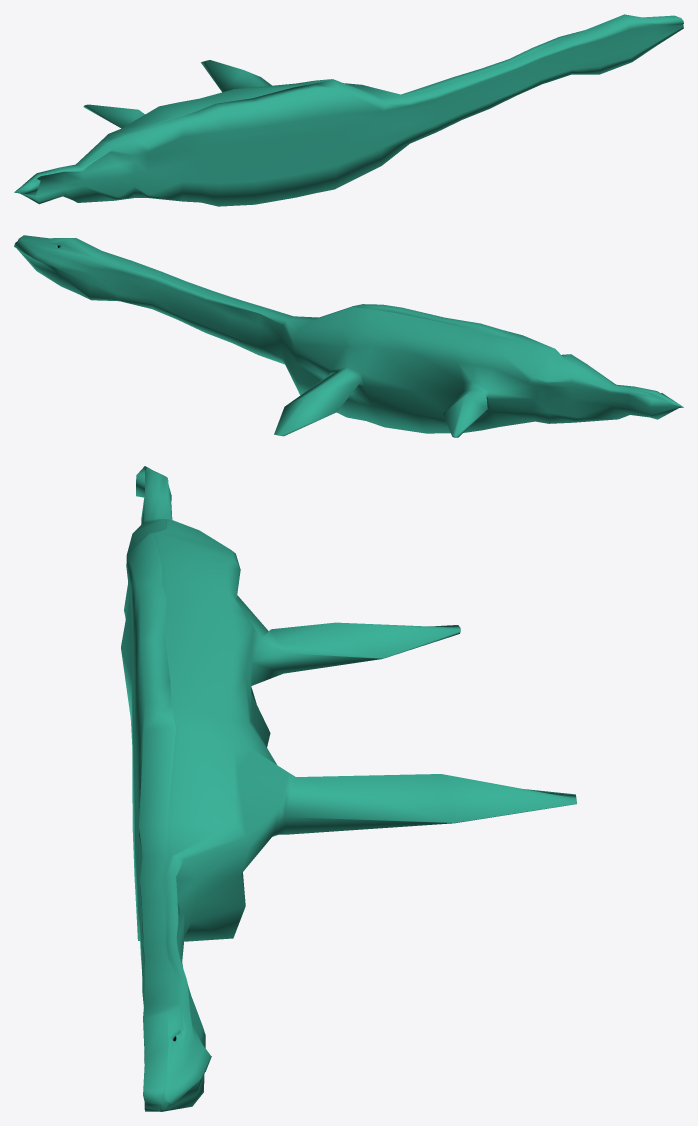
Rendered from asset.glb.
The picture shows the model from 3 angles, top to bottom: view 1: azimuth 30°, elevation 25°; view 2: azimuth 150°, elevation 25°; view 3: azimuth 270°, elevation 25°; orthographic projection. The views are drawn at different scales.
Parts seen in each view (by area): view 1: Cube; view 2: Cube; view 3: Cube.
Boxes of the visible parts, x1=… form: Cube: x1=14, y1=14, x2=683, y2=206; Cube: x1=14, y1=235, x2=683, y2=437; Cube: x1=121, y1=466, x2=576, y2=1111.
Bounding box in the file's own units: 19.17 × 2.95 × 5.71.
